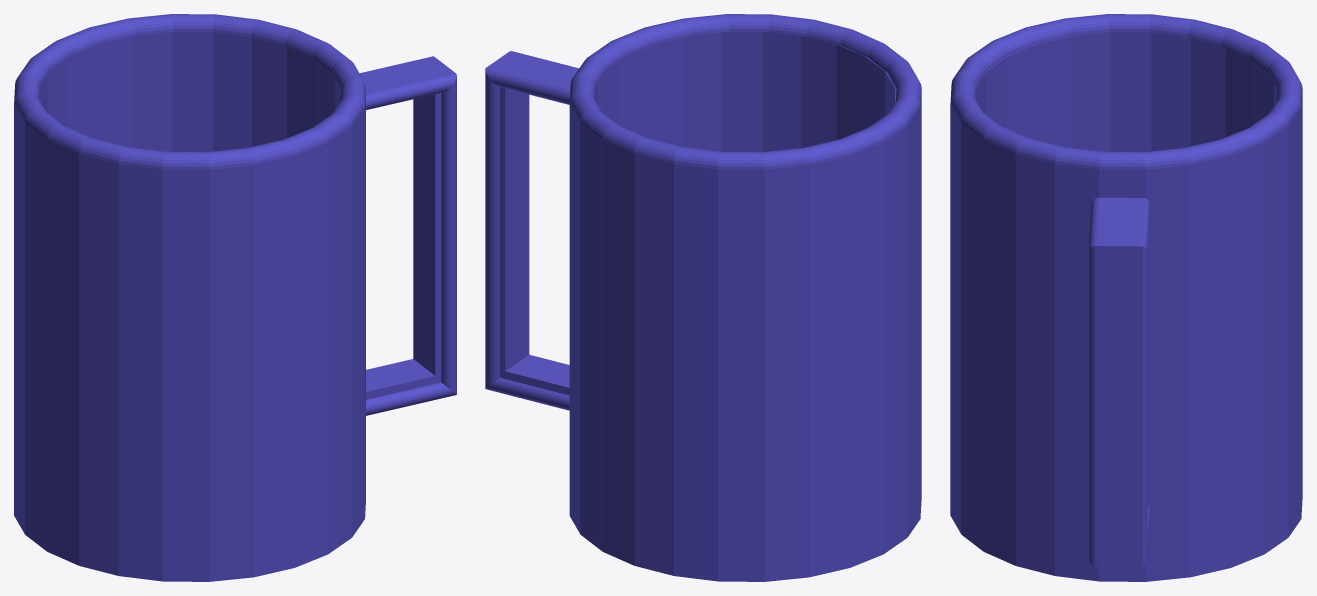
The picture shows the model from 3 angles, left to right: view 1: azimuth 30°, elevation 25°; view 2: azimuth 150°, elevation 25°; view 3: azimuth 270°, elevation 25°; orthographic projection.
Visible parts, largest first — view 1: mesh1_mesh1-geometry; view 2: mesh1_mesh1-geometry; view 3: mesh1_mesh1-geometry.
Part boxes in pixels (x1=…): mesh1_mesh1-geometry: x1=14, y1=14, x2=456, y2=581; mesh1_mesh1-geometry: x1=485, y1=14, x2=921, y2=581; mesh1_mesh1-geometry: x1=950, y1=14, x2=1302, y2=581.
Size of the model in its own units: 0.6238 by 0.6242 by 0.4704.
